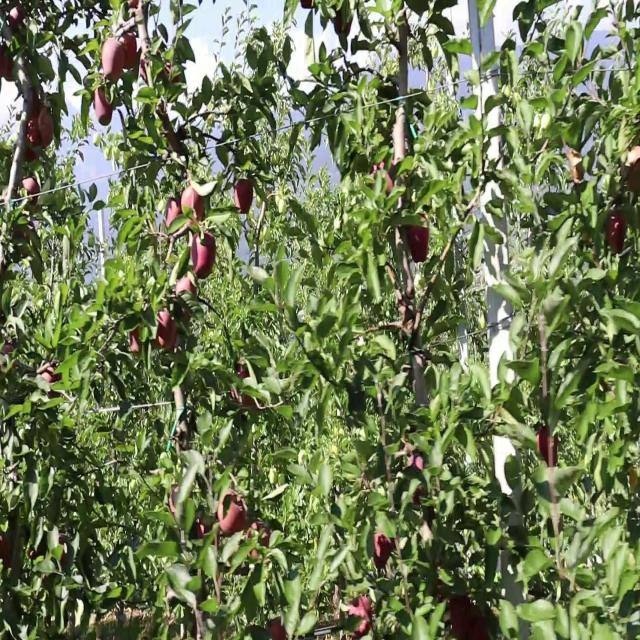apple: (452, 597, 483, 639), (220, 490, 248, 535), (100, 35, 124, 85), (192, 234, 217, 281), (404, 220, 431, 263), (180, 184, 206, 226), (348, 597, 373, 638), (156, 312, 180, 354), (232, 369, 256, 411), (32, 106, 55, 149), (620, 149, 640, 196), (372, 156, 395, 196), (176, 277, 197, 320), (608, 213, 628, 256), (540, 426, 560, 469), (40, 362, 64, 396), (96, 85, 115, 126), (236, 177, 256, 215), (20, 177, 41, 212), (120, 35, 140, 71), (248, 526, 272, 556), (24, 120, 40, 164), (568, 149, 585, 190), (376, 533, 395, 569), (36, 113, 55, 149), (176, 291, 196, 325), (0, 49, 17, 85), (176, 277, 197, 306), (164, 199, 183, 231), (24, 127, 40, 164), (28, 92, 47, 121), (8, 7, 26, 36), (408, 447, 425, 473), (0, 533, 12, 567), (4, 341, 17, 372), (628, 462, 640, 492), (472, 618, 489, 639), (272, 618, 288, 639), (132, 327, 142, 356), (196, 519, 207, 540), (412, 490, 424, 507), (172, 490, 178, 517)
